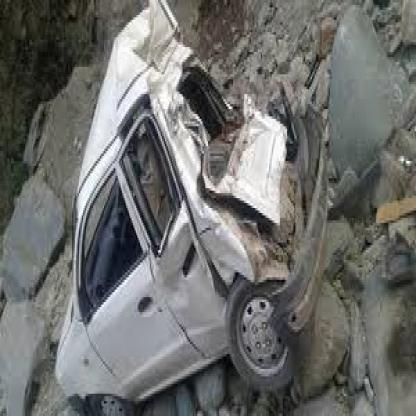accident: (52, 0, 348, 414)
